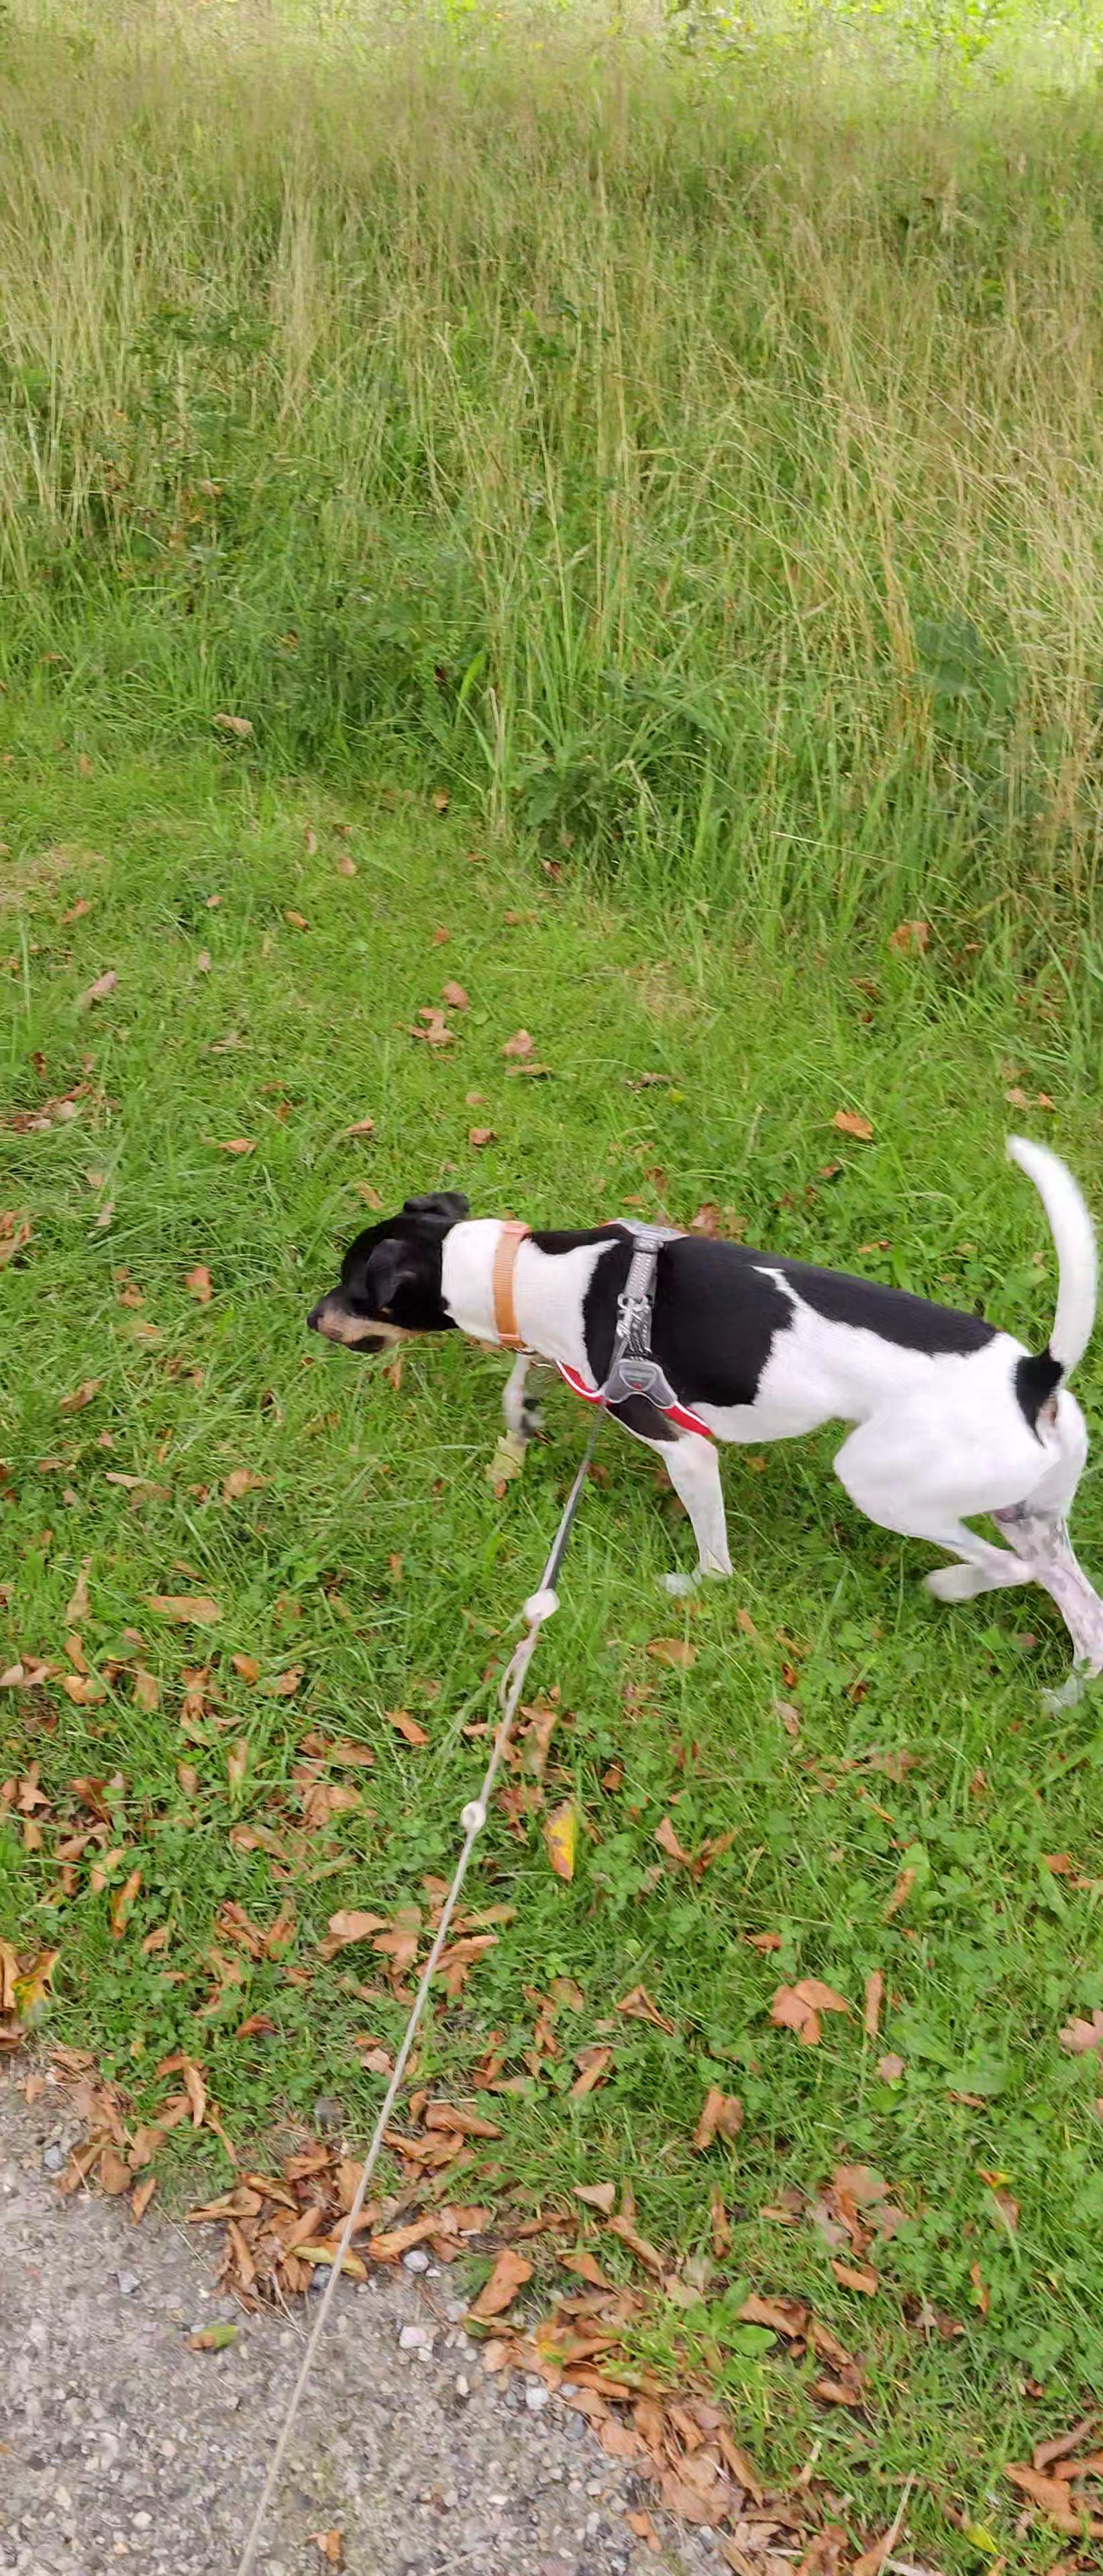Dog: (301, 1127, 1103, 1712)
